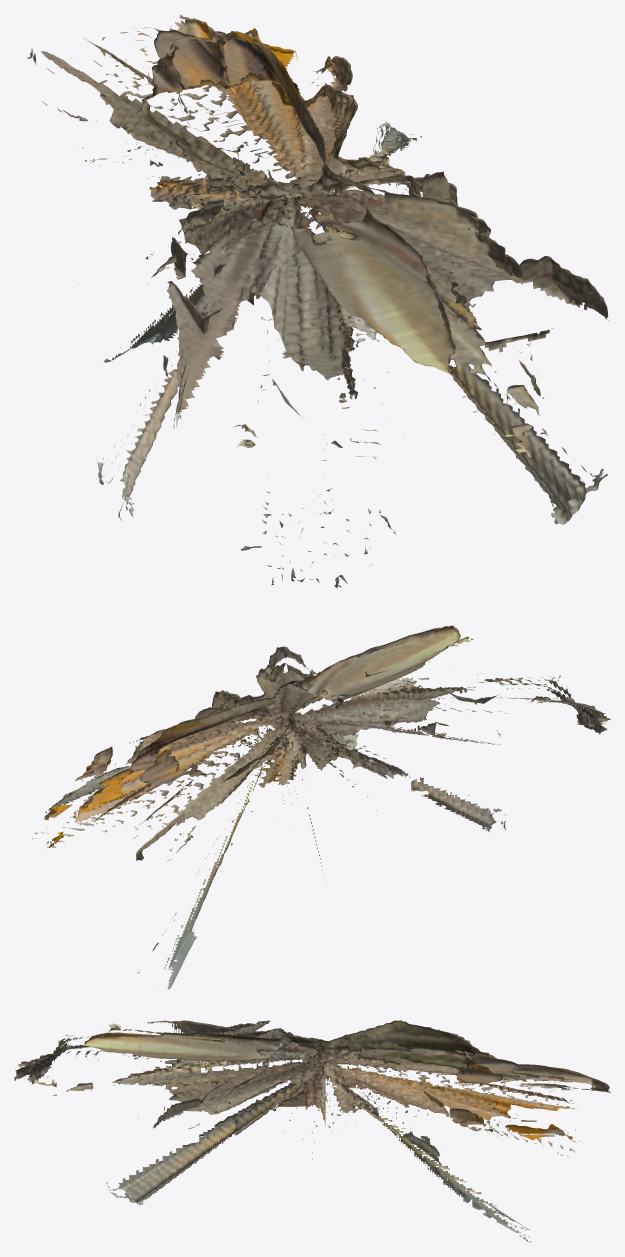
Rendered from collider.glb.
3 renders of one model, top to bottom at view 1: azimuth 30°, elevation 25°; view 2: azimuth 150°, elevation 25°; view 3: azimuth 270°, elevation 25°, orthographic. The views are drawn at different scales.
Visible parts, largest first — view 1: world; view 2: world; view 3: world.
Boxes of the visible parts, box(x1,y1,x2,y2) form: world: box(27, 14, 608, 587); world: box(31, 625, 610, 989); world: box(14, 1020, 610, 1242).
Bounding box in the file's own units: 22.57 × 14.56 × 39.51.
